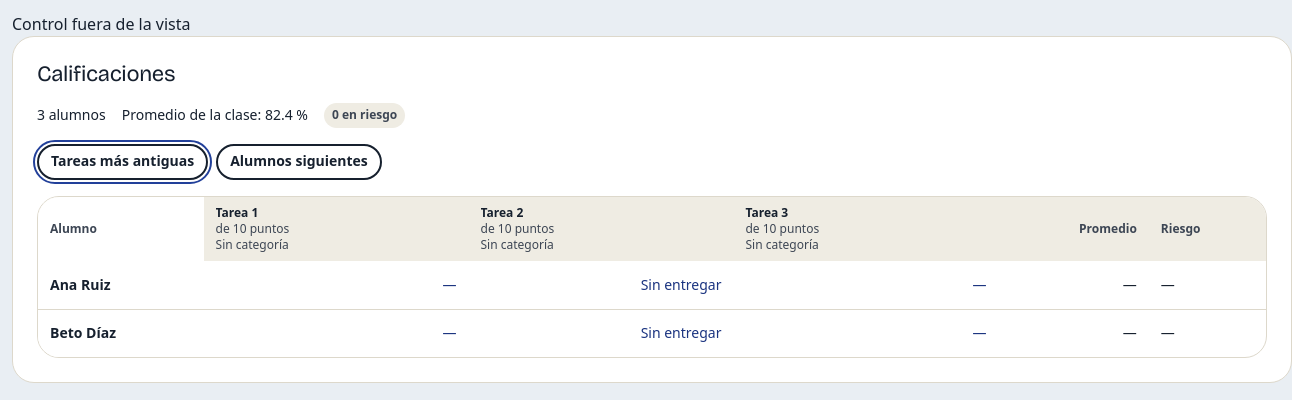
Scenario: N-48: el gradebook no roba el foco a quien lo movió mientras llegaba la ventana › CAL-T-145: caché vieja — «Tareas más antiguas» desaparece al pulsarlo (la ventana de la caché no trae cursor) y el foco pasa a la raíz; la persona tabula a «Tar
Click the button "Tareas más antiguas" at (123, 162), box x1=37 y1=144 x2=208 y2=180
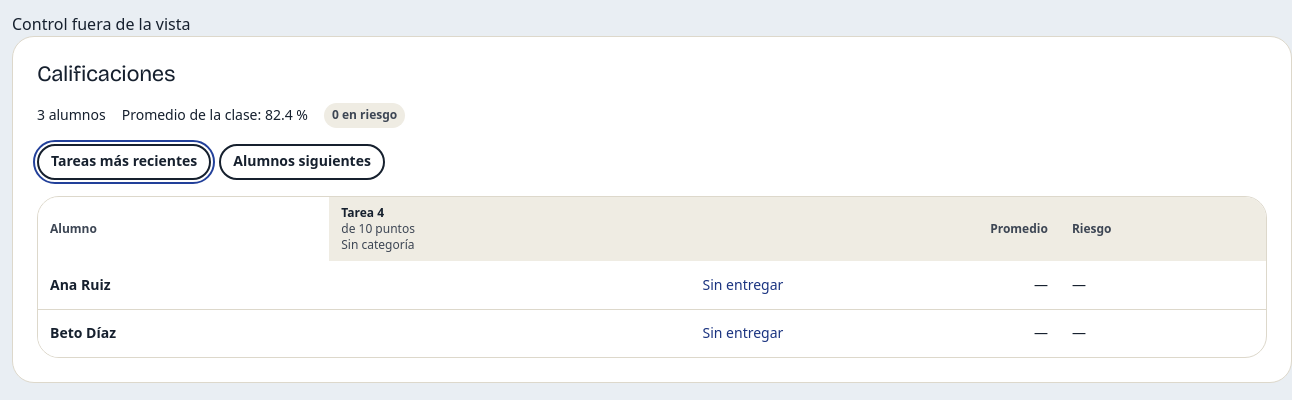
Result: the column heading "Tarea 4 de 10 puntos Sin categoría" is shown at x1=329 y1=197 x2=795 y2=261
Result: the button "Tareas más antiguas" is gone
